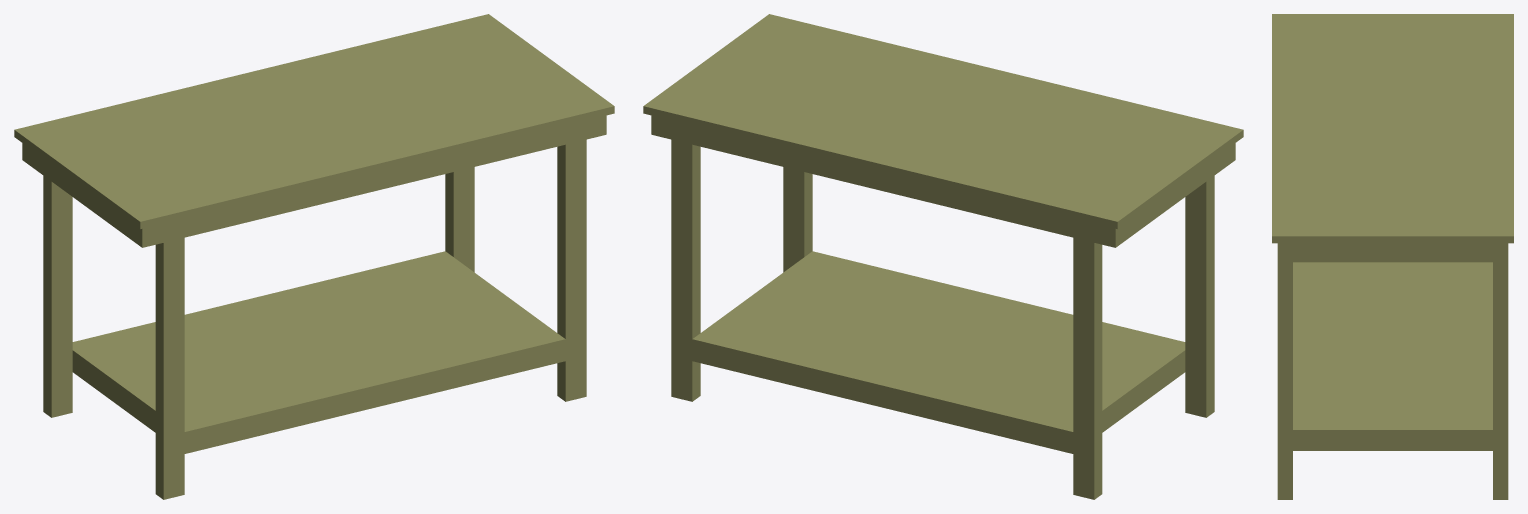
The model's file is Worktable 1.FBX.
3 views of the same model, side by side, from view 1: azimuth 30°, elevation 25°; view 2: azimuth 150°, elevation 25°; view 3: azimuth 270°, elevation 25° (orthographic). The views are drawn at different scales.
Parts seen in each view (by area): view 1: Work_Tabe; view 2: Work_Tabe; view 3: Work_Tabe.
Part boxes in pixels (<box>): Work_Tabe: <box>14,14,614,499</box>; Work_Tabe: <box>643,14,1243,499</box>; Work_Tabe: <box>1272,14,1513,499</box>.
Bounding box in the file's own units: 0.6755 × 0.39 × 0.3106.
